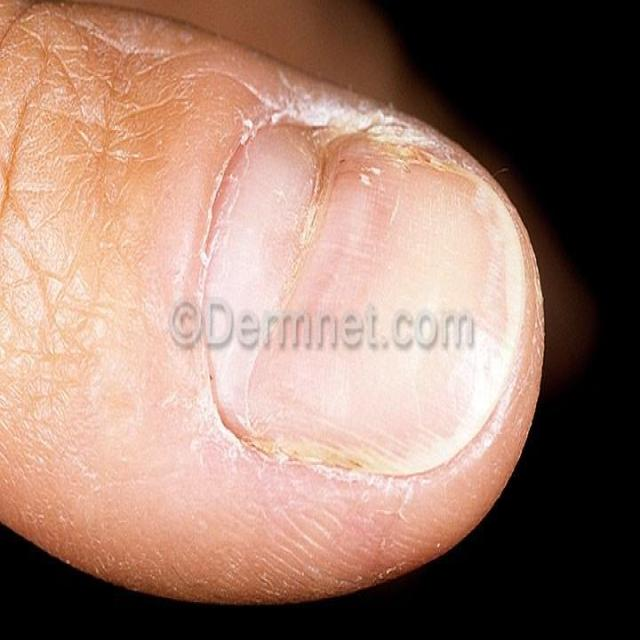Nail: (206, 128, 524, 478)
